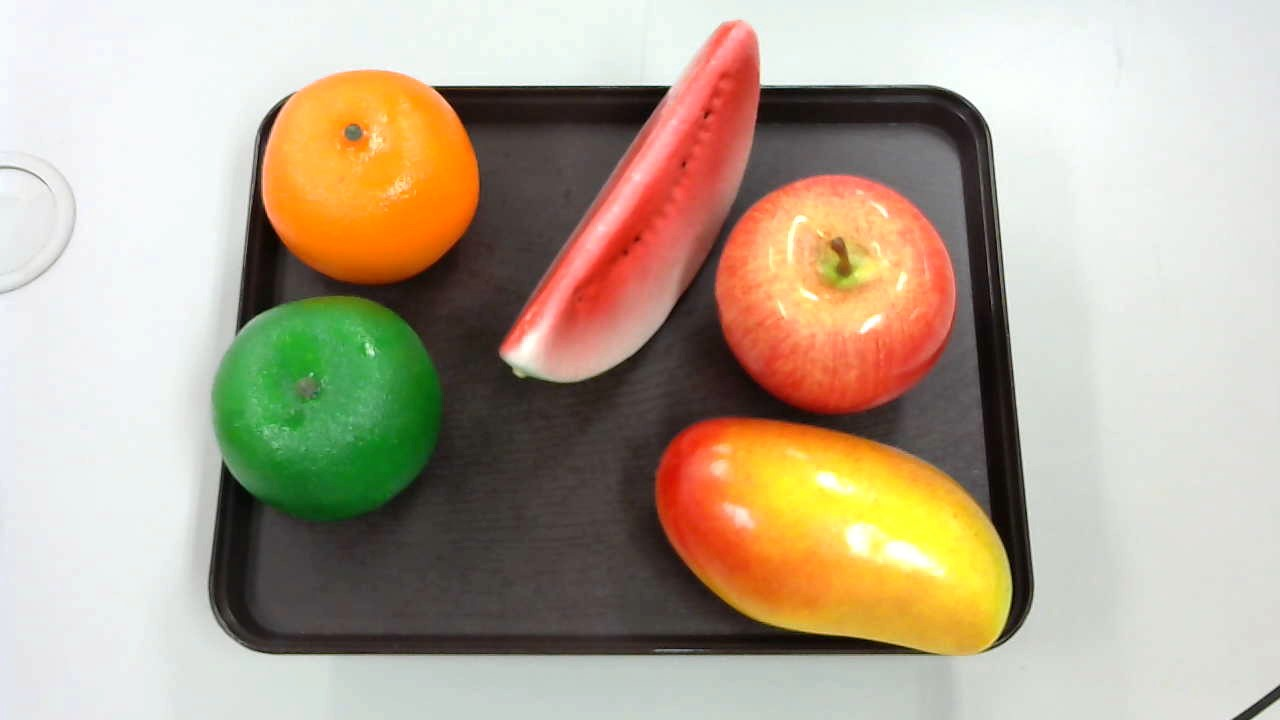green orange: (209, 293, 442, 514)
orange: (258, 67, 486, 283)
red apple: (712, 172, 952, 416)
red mango: (651, 411, 1019, 663)
water melon: (496, 23, 761, 398)
